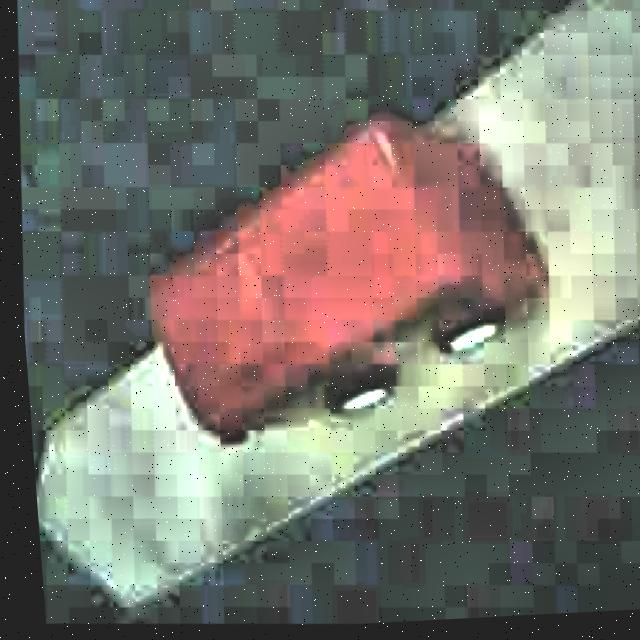bus: (127, 95, 568, 465)
